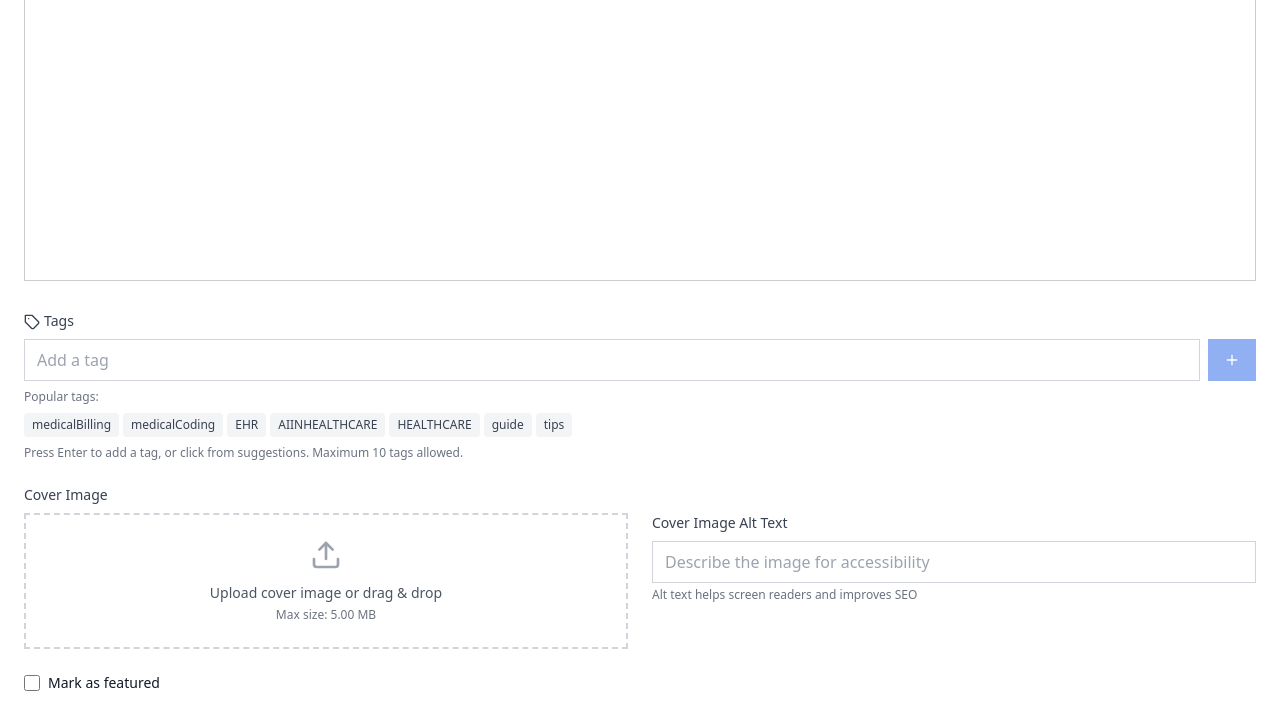
Test case: BlogForm Metadata Management Tests › Category and Tag Management › adds tag on Enter key press
(page scrolled)
In the field with placeholder "Add a tag": (612,360) x1=24 y1=339 x2=1200 y2=381, type "react"
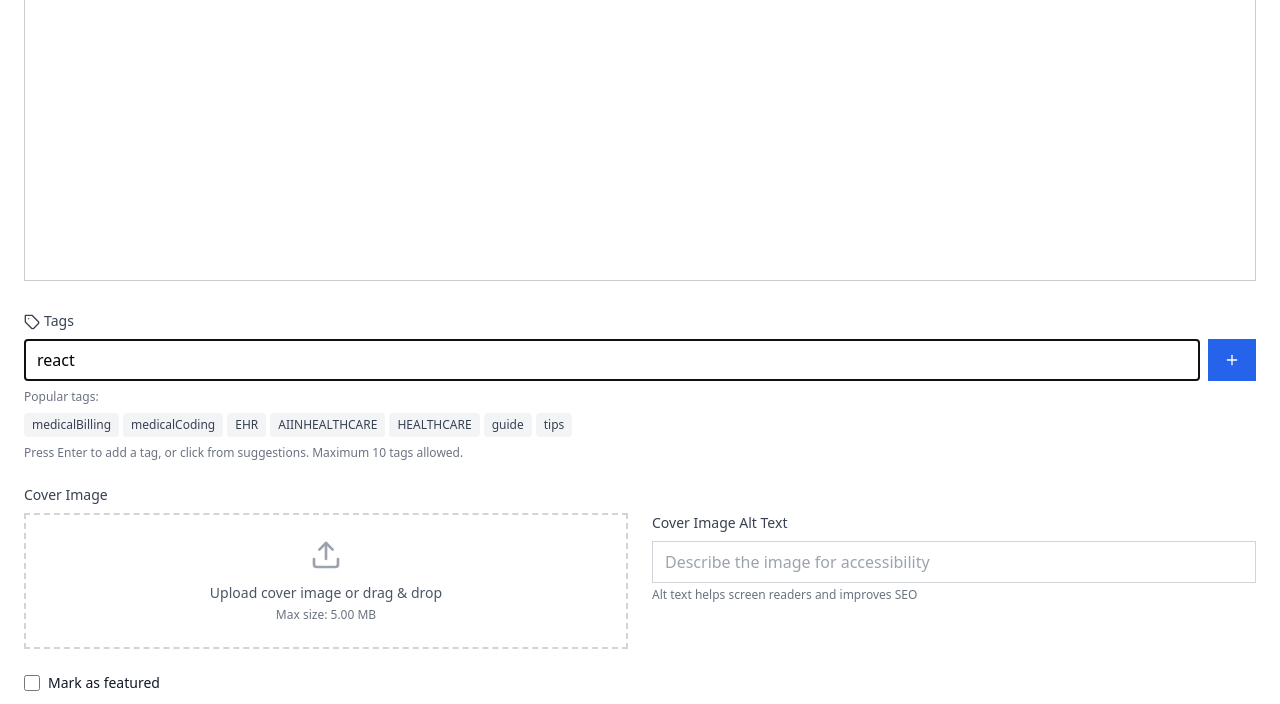
Press Enter
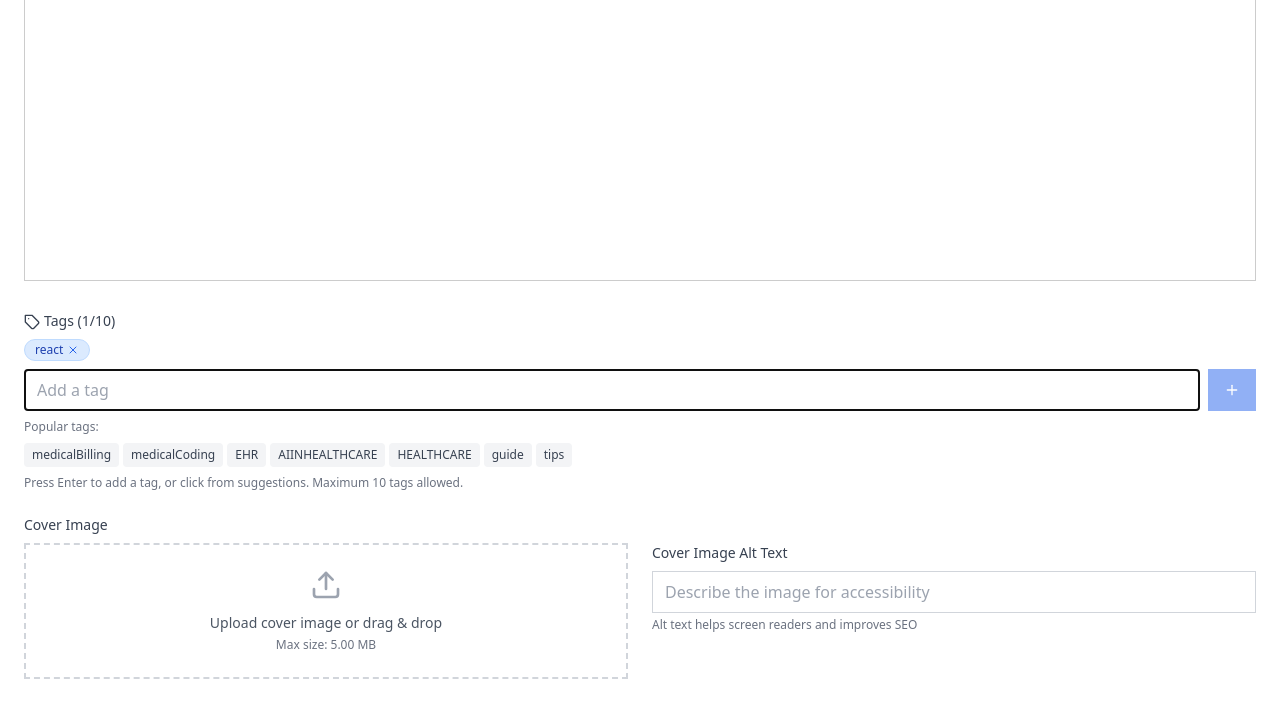
Check: the text "react" is shown, box x1=24 y1=339 x2=90 y2=361
Check: the field with placeholder "Add a tag" is empty, box x1=24 y1=369 x2=1200 y2=411
